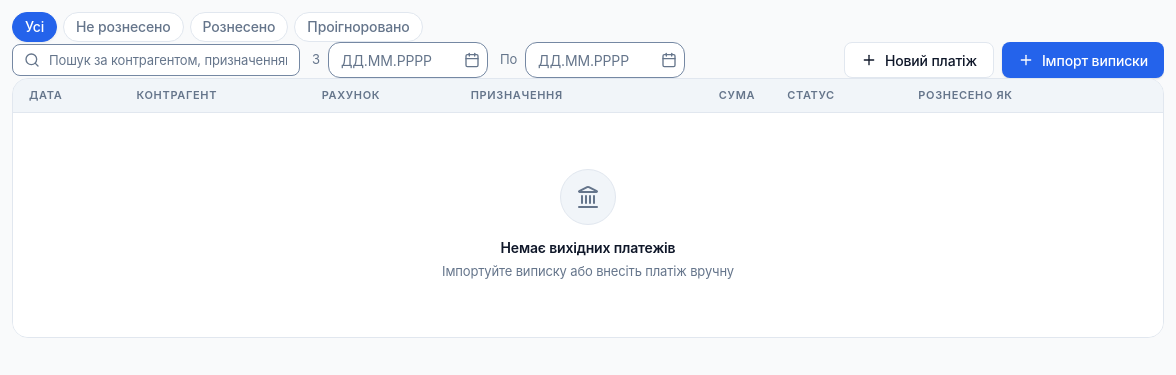
BankTransactionsTab — валюта суми (multi-bank) › порожні «Вихідні» з фільтром статусу теж показують «Нічого не знайдено»
Click the button "Рознесено".
click(239, 27)  # box [190,12,288,42]
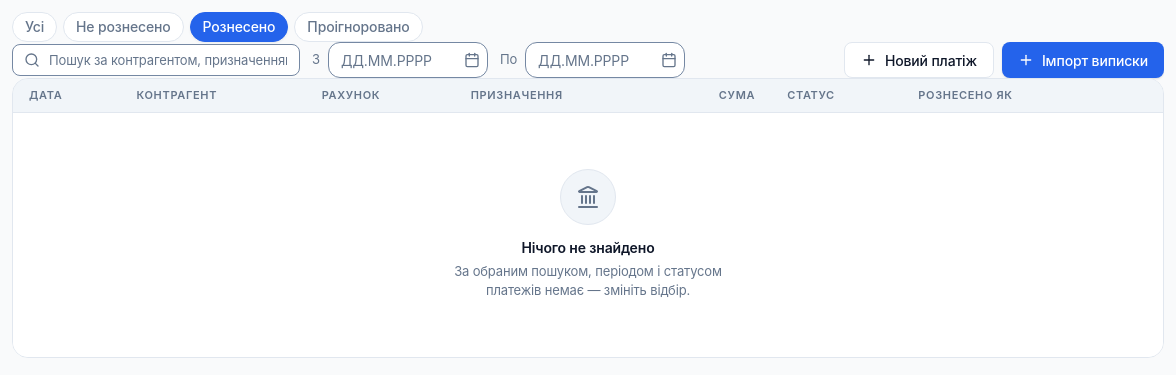
expect the text "Нічого не знайдено" is shown: met, box [522,238,654,256]
expect the text "Немає вихідних платежів" is gone: met
